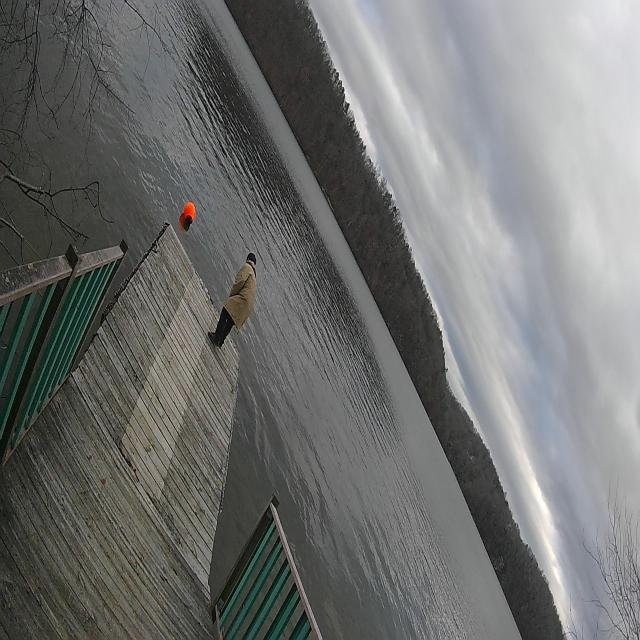Buoy: (180, 193, 198, 235)
